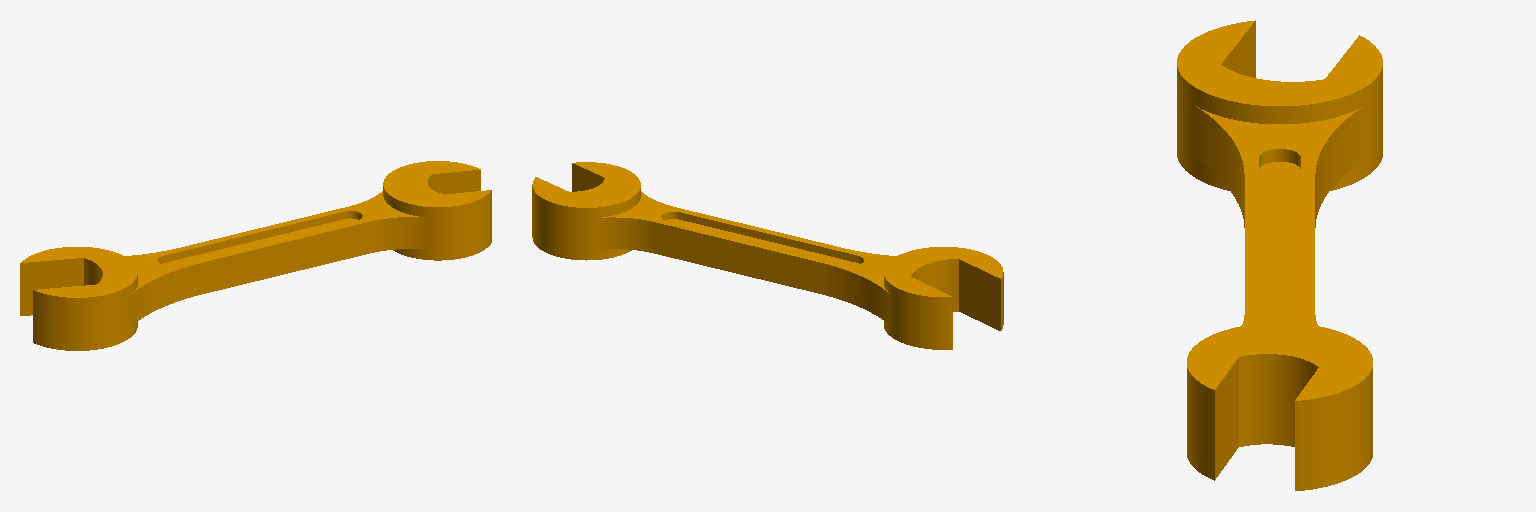
robot.urdf — wrench_2:
<?xml version="1.0" encoding="utf-8"?>
<robot name="wrench_2">
  <link name="wrench_2Link">
    <contact>
      <lateral_friction value="1.0"/>
      <rolling_friction value="0.0"/>
      <contact_cfm value="0.0"/>
      <contact_erp value="1.0"/>
    </contact>
    <inertial>
      <origin rpy="0 0 0" xyz="0 0 0"/>
      <mass value="0.1"/>
      <inertia ixx="0.1" ixy="0" ixz="0" iyy="0.1" iyz="0" izz="0.1"/>
    </inertial>
    <visual>
      <origin rpy="0 0 0" xyz="0 0 0"/>
      <geometry>
        <mesh filename="generated_stl/wrench/wrench_2.stl" scale="0.001 0.001 0.001"/>
      </geometry>
    </visual>
    <collision>
      <origin rpy="0 0 0" xyz="0 0 0"/>
      <geometry>
        <mesh filename="generated_stl/wrench/wrench_2.stl" scale="0.001 0.001 0.001"/>
      </geometry>
    </collision>
  </link>
</robot>

--- Render facts (derived) ---
The picture shows the robot from 3 angles, left to right: view 1: azimuth 30°, elevation 25°; view 2: azimuth 150°, elevation 25°; view 3: azimuth 270°, elevation 25°; orthographic projection.
Model wrench_2 with 1 links and 0 joints (none), rooted at wrench_2Link, posed every joint at zero.
Visible links, largest first — view 1: wrench_2Link; view 2: wrench_2Link; view 3: wrench_2Link.
Boxes of the visible links, left/top/right/bottom form: wrench_2Link: left=20, top=161, right=491, bottom=350; wrench_2Link: left=532, top=162, right=1003, bottom=349; wrench_2Link: left=1177, top=20, right=1382, bottom=490.
Size in the robot's own frame: 0.0904 by 0.0207 by 0.01 metres.
1 mesh visuals loaded from 1 distinct referenced files (1 binary STL).